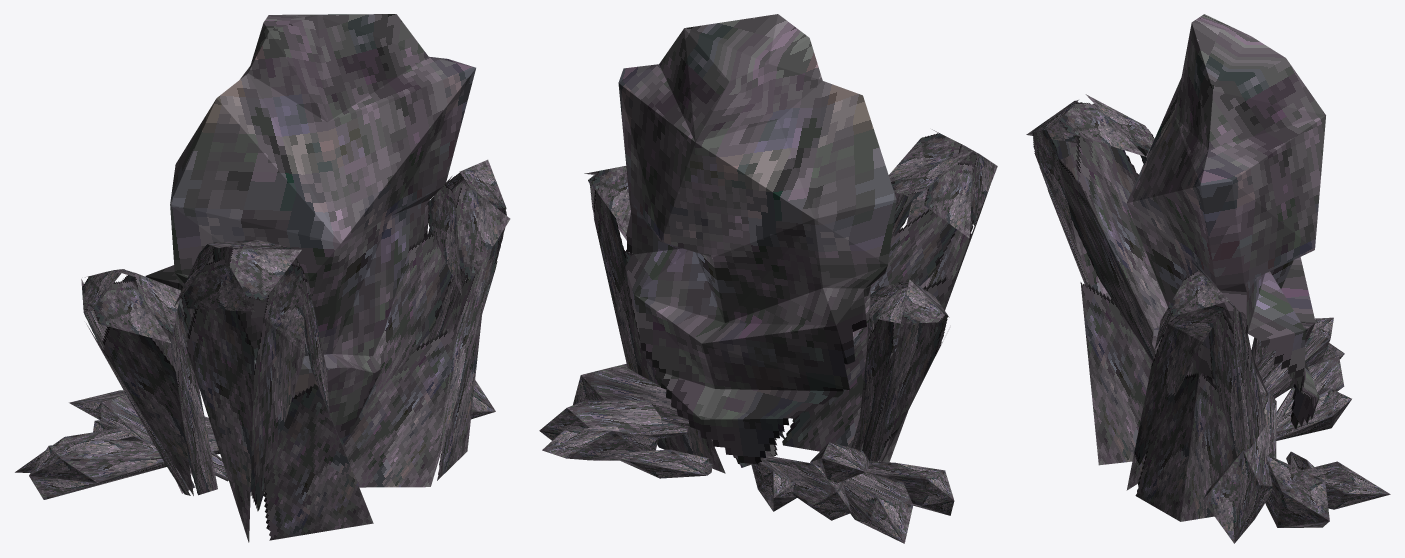
Rendered from shitou_001.FBX.
The picture shows the model from 3 angles, left to right: view 1: azimuth 30°, elevation 25°; view 2: azimuth 150°, elevation 25°; view 3: azimuth 270°, elevation 25°; orthographic projection. The views are drawn at different scales.
Parts seen in each view (by area): view 1: shitou_001_3; view 2: shitou_001_3; view 3: shitou_001_3.
Boxes of the visible parts, left/top/right/bottom form: shitou_001_3: left=15, top=14, right=510, bottom=542; shitou_001_3: left=539, top=14, right=997, bottom=543; shitou_001_3: left=1026, top=14, right=1390, bottom=543.
Size of the model in its own units: 88.47 by 92.95 by 68.
